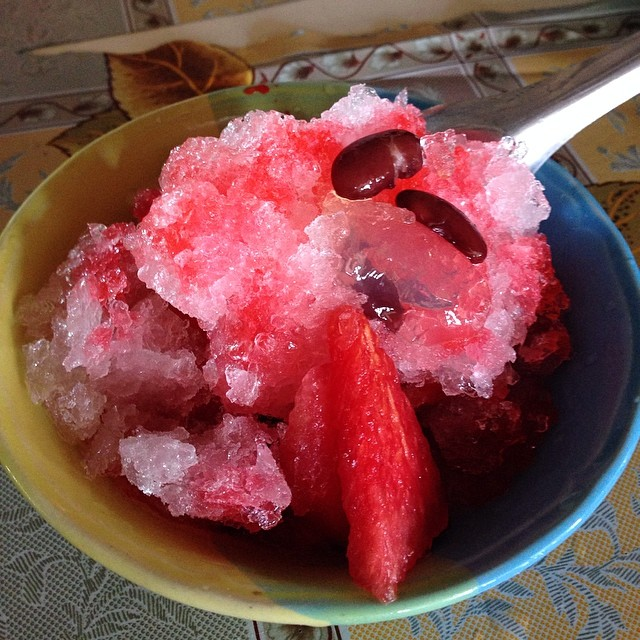O-eo: (25, 82, 640, 628)
